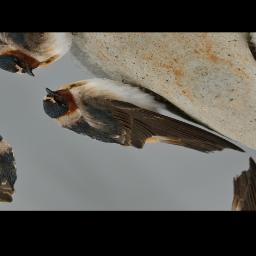Swallow: (26, 49, 248, 199)
